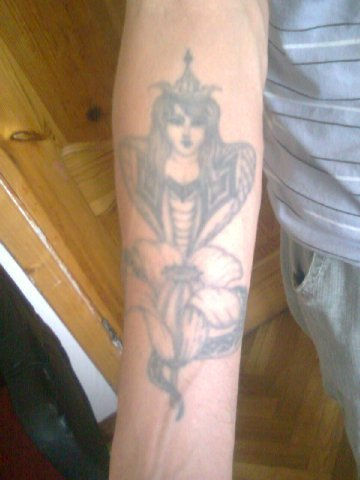tatu7_zmeya: (93, 43, 258, 415)
